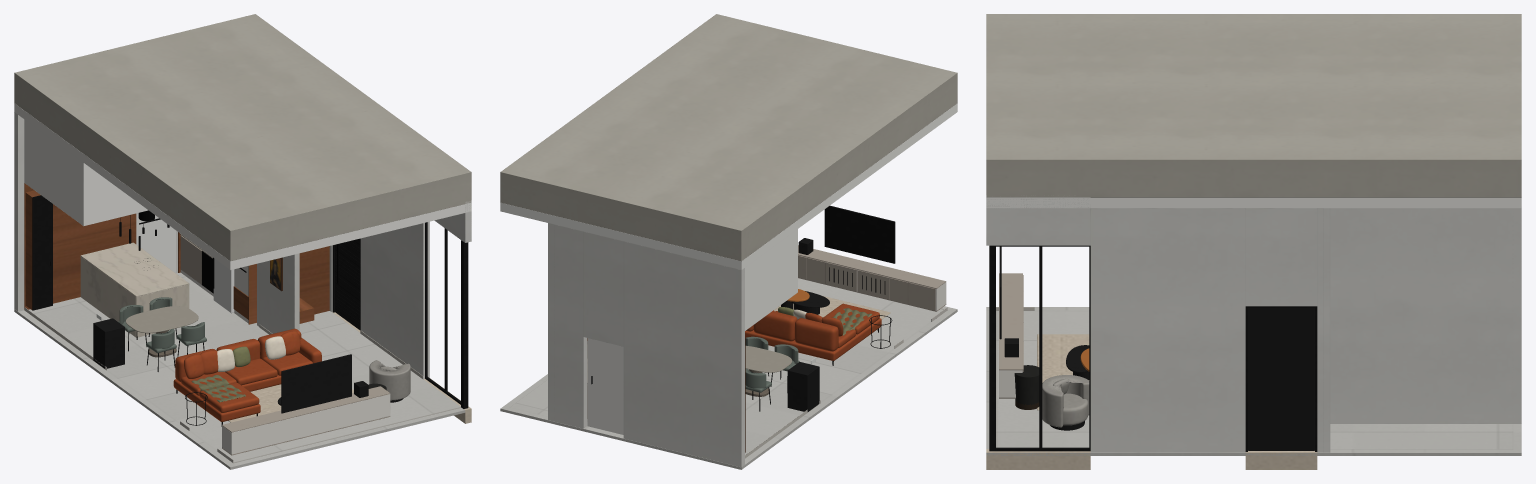
File: casa_social.glb
3 views of the same model, side by side, from view 1: azimuth 30°, elevation 25°; view 2: azimuth 150°, elevation 25°; view 3: azimuth 270°, elevation 25° (orthographic). The views are drawn at different scales.
Visible parts, largest first — view 1: ZONA_social; view 2: ZONA_social; view 3: ZONA_social.
Part boxes in pixels (left/top/right/bottom): ZONA_social: left=14, top=14, right=471, bottom=469; ZONA_social: left=500, top=14, right=957, bottom=469; ZONA_social: left=986, top=14, right=1521, bottom=469.
Size of the model in its own units: 5.77 by 5.73 by 8.96.
1 material, 1 textured.
